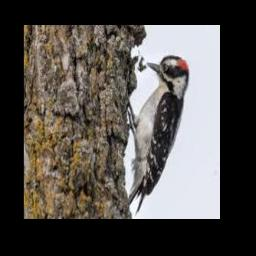Woodpecker: (127, 55, 190, 217)
